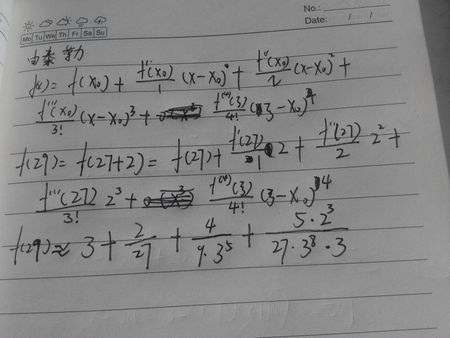cube: (112, 185, 124, 197), (324, 203, 336, 214)
